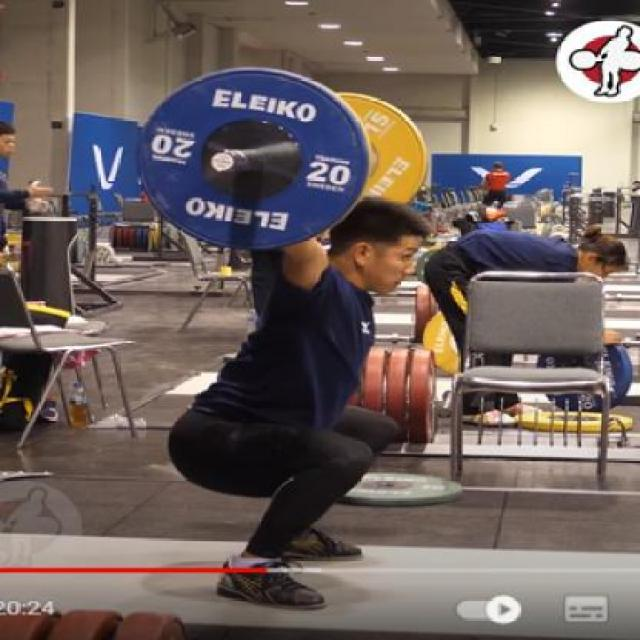Barbell: (203, 145, 246, 178)
